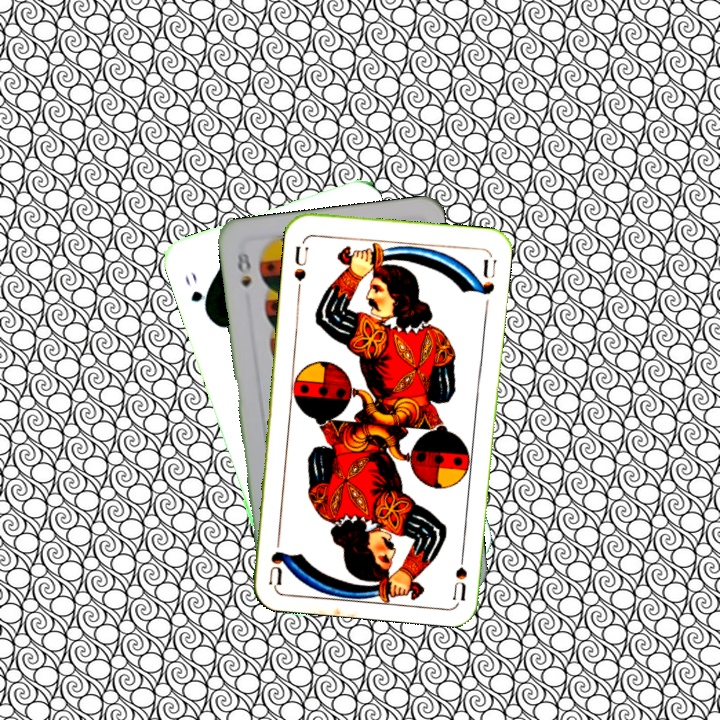GO: (180, 268, 211, 318)
S8: (233, 248, 254, 290)
SU: (290, 236, 311, 295), (449, 542, 469, 601)
